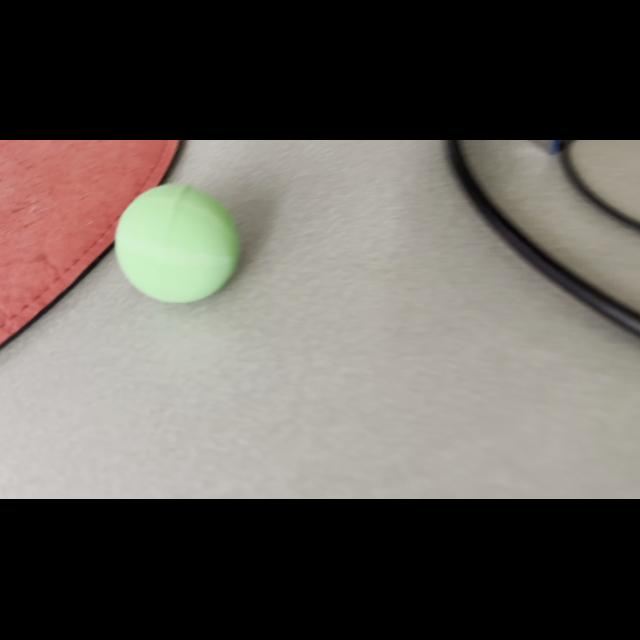objects: (110, 176, 250, 314)
